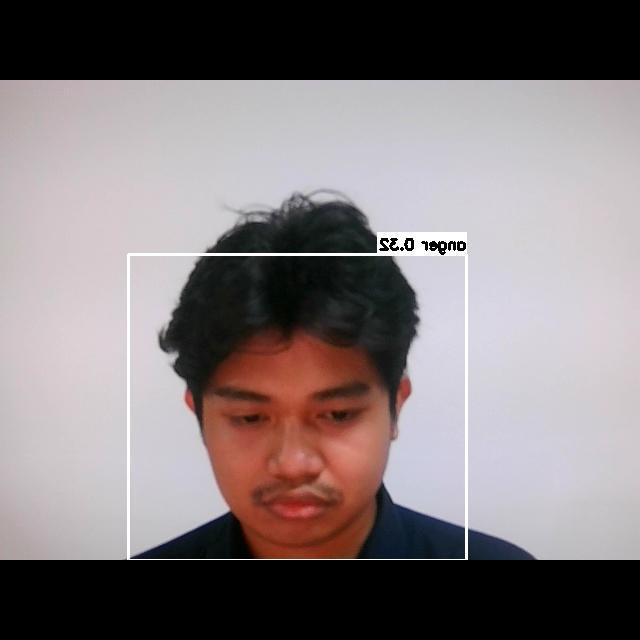Natural: (186, 362, 399, 525)
